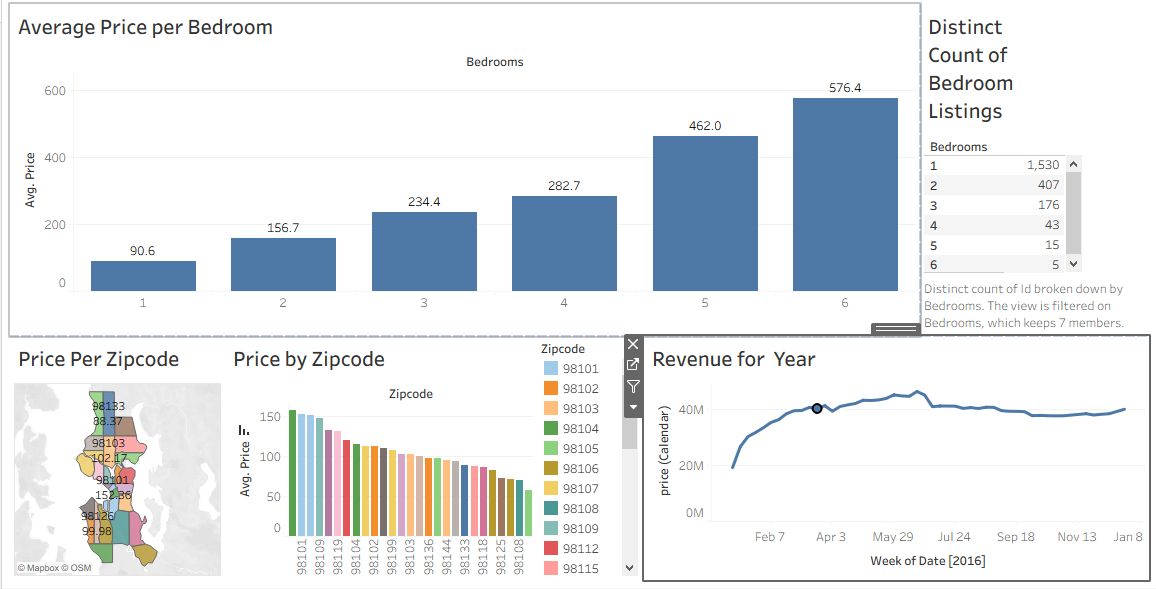

The dashboard page shown, as its layout file describes it:
{"tool":"tableau","page":{"name":"Dashboard 1","canvas":[1000,1000],"units":"permille","ordinal":0},"visuals":[{"type":"worksheet","title":"Sheet 4","mark":"Automatic","rows":["price"],"cols":["bedrooms"],"box":[6.9,13.5,787.9,560.8]},{"type":"worksheet","title":"Sheet 5","mark":"Automatic","rows":["bedrooms"],"box":[794.8,13.5,198.3,560.8]},{"type":"worksheet","title":"Sheet 2","mark":"Multipolygon","box":[6.9,574.3,186.1,412.2]},{"type":"worksheet","title":"Sheet 1","mark":"Automatic","rows":["price"],"cols":["zipcode"],"box":[193.1,574.3,270.1,412.2]},{"type":"legend","title":"Sheet 1","param":"[federated.1ya80ft019xpps1f947ct1330e33].[none:zipcode:ok]","box":[463.2,574.3,92.6,412.2]},{"type":"worksheet","title":"Sheet 3","mark":"Automatic","rows":["price (Calendar)"],"cols":["date"],"box":[555.8,574.3,437.2,412.2]}]}

Visuals, with their boxes on the dashboard's canvas, which has no fixed pixel size, in thousandths of its width and height (x1, y1, x2, y2). These are canvas units, not pixel positions in the 1156x589 screenshot, which may show the page scaled, cropped or inside an application window:
"Sheet 4" worksheet: BBox(7, 14, 795, 574)
"Sheet 5" worksheet: BBox(795, 14, 993, 574)
"Sheet 2" worksheet (Multipolygon marks): BBox(7, 574, 193, 986)
"Sheet 1" worksheet: BBox(193, 574, 463, 986)
"Sheet 1" legend: BBox(463, 574, 556, 986)
"Sheet 3" worksheet: BBox(556, 574, 993, 986)
